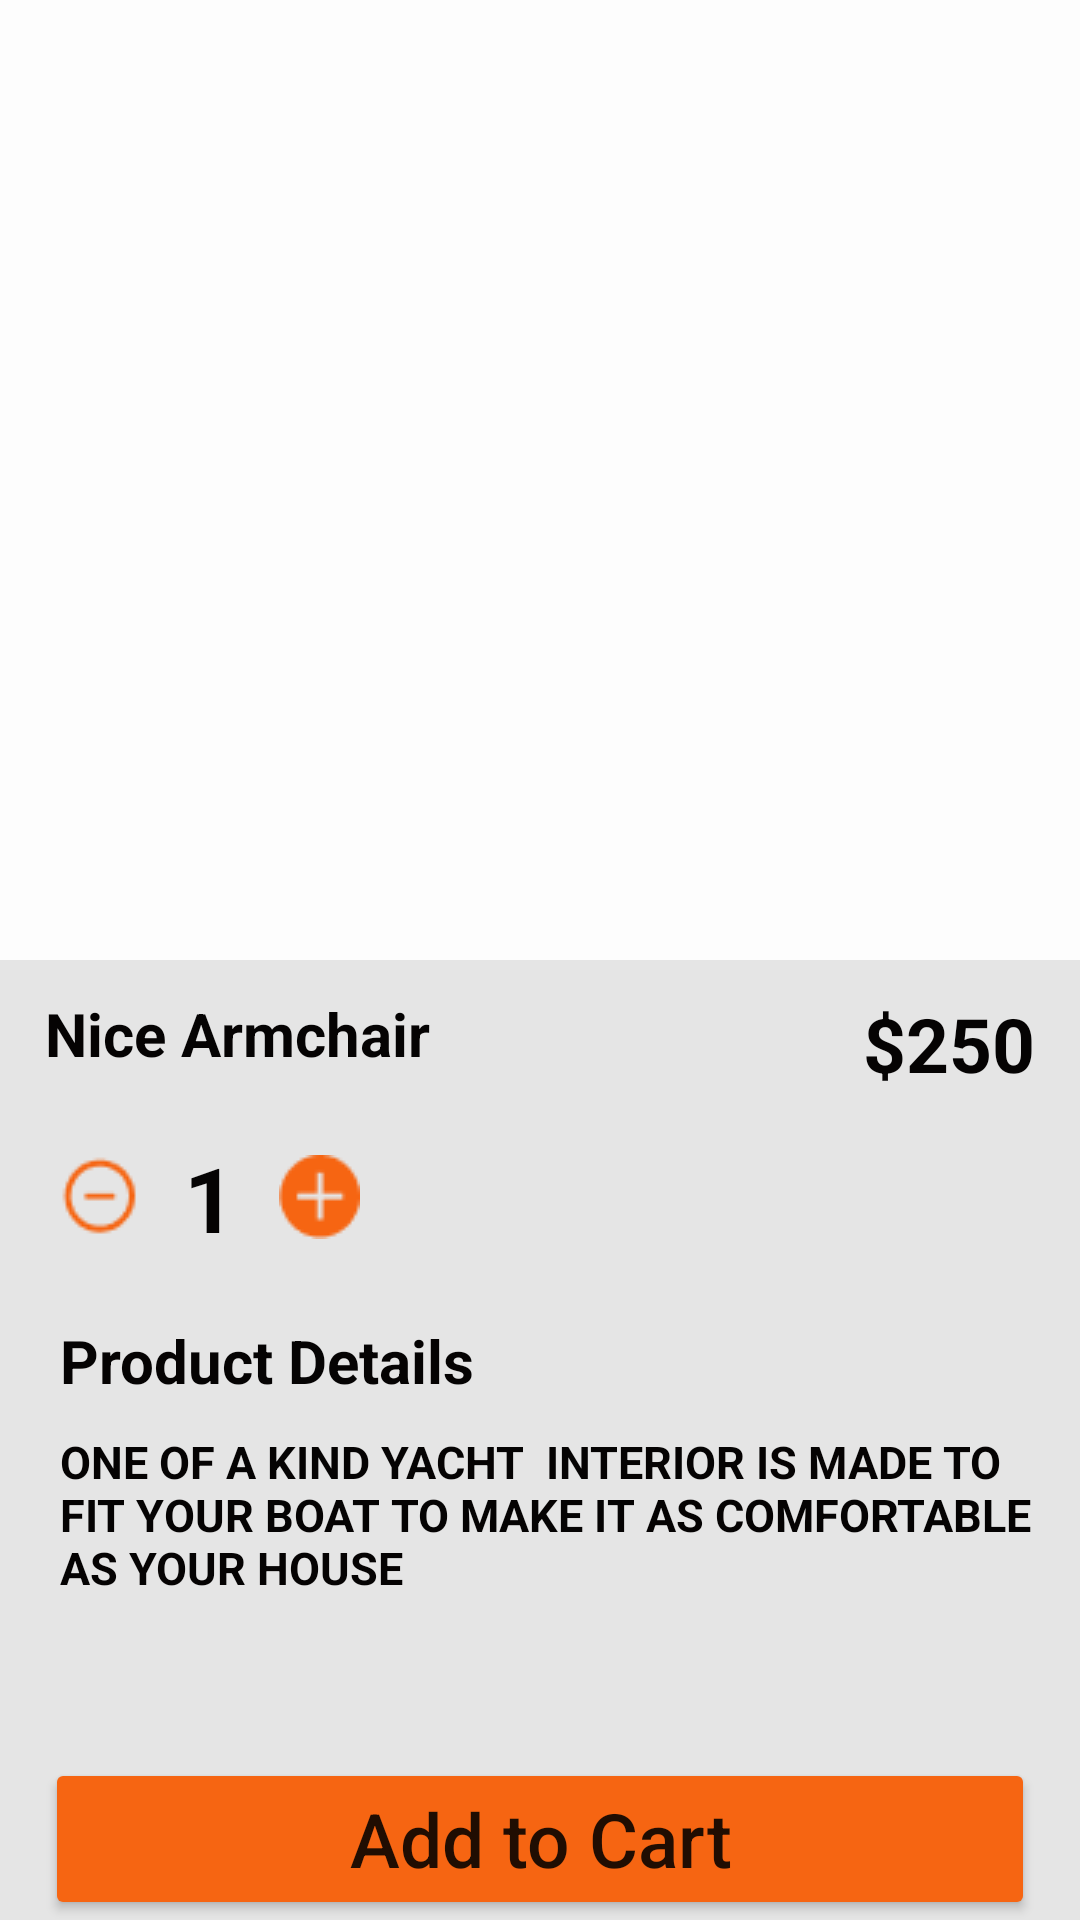

Locate icon controls on the screen. Image size 1080px x 1920px, boxes as (x1,y1,x2,y2).
ant design minus circle: (62,1158,136,1234)
